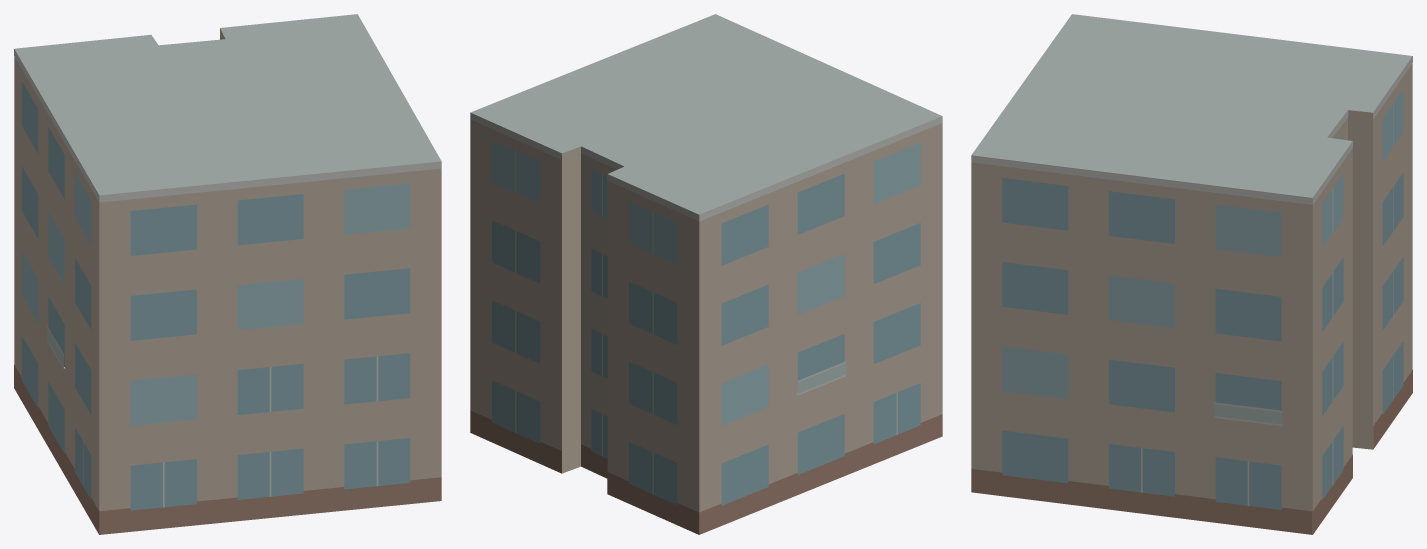
Rendered from survey-upis-32868130.glb.
The picture shows the model from 3 angles, left to right: view 1: azimuth 30°, elevation 25°; view 2: azimuth 150°, elevation 25°; view 3: azimuth 270°, elevation 25°; orthographic projection. The views are drawn at different scales.
Parts seen in each view (by area): view 1: survey-upis-32868130.tmp; view 2: survey-upis-32868130.tmp; view 3: survey-upis-32868130.tmp.
Boxes of the visible parts, box(x1,y1,x2,y2) form: survey-upis-32868130.tmp: box(14, 14, 441, 534); survey-upis-32868130.tmp: box(470, 14, 942, 534); survey-upis-32868130.tmp: box(971, 14, 1412, 534).
Bounding box in the file's own units: 13.59 × 11.6 × 13.78.
